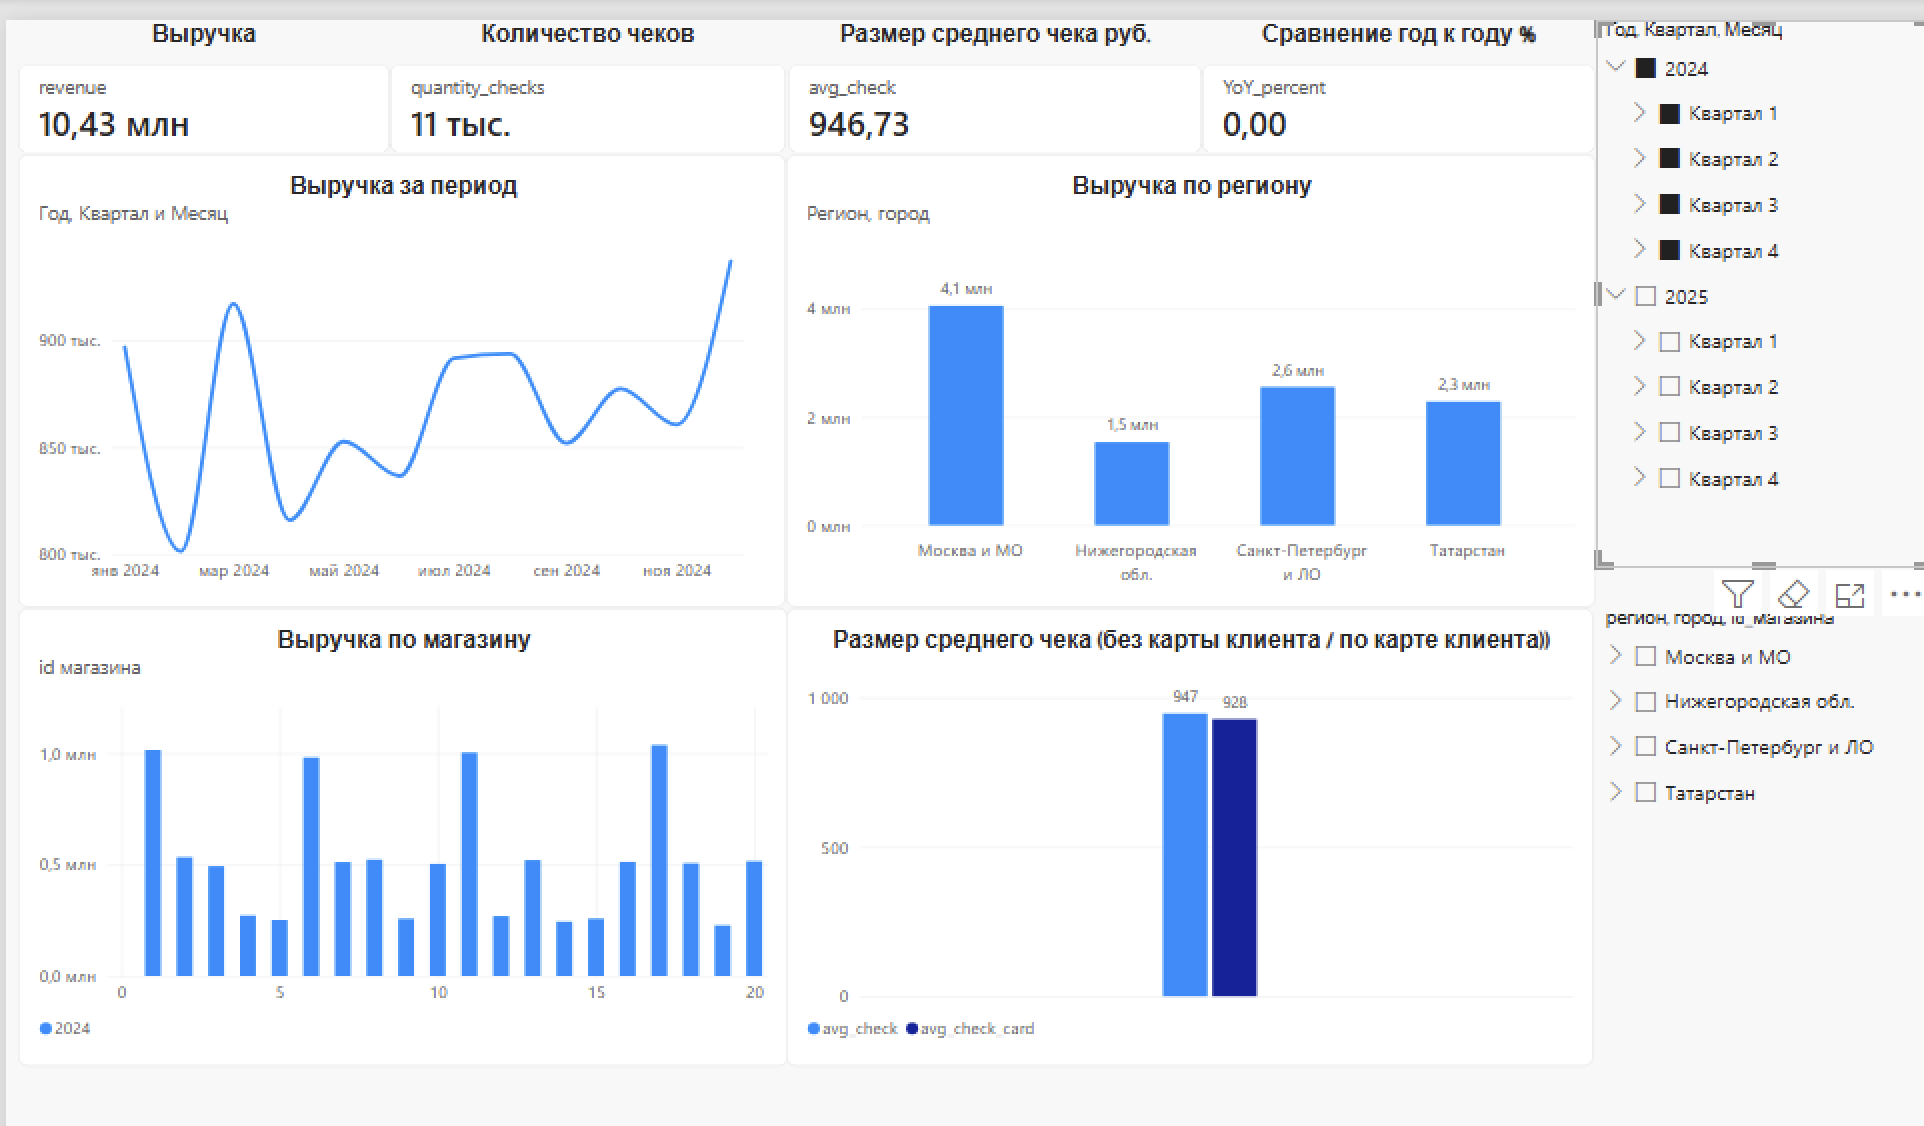

This screenshot's page, from the dashboard's own definition file:
{"tool":"powerbi","page":{"name":"Sales Sosedushka","canvas":[1920,1080],"ordinal":0},"visuals":[{"type":"cardVisual","title":"Выручка","fields":{"Data":["fact_sales.revenue"]},"box":[10,0,310,111.7],"z":0},{"type":"cardVisual","title":"Количество чеков","fields":{"Data":["fact_sales.quantity_checks"]},"box":[320,0,330,111.7],"z":1},{"type":"cardVisual","title":"Размер среднего чека руб.","fields":{"Data":["fact_sales.avg_check"]},"box":[651.7,0,345,111.7],"z":2},{"type":"cardVisual","title":"Сравнение год к году %","fields":{"Data":["fact_sales.YoY_percent"]},"box":[996.7,0,328.3,111.7],"z":3},{"type":"lineChart","title":"Выручка за период","fields":{"Category":["fact_sales.дата_время.Изменение.Иерархия дат.Год","fact_sales.дата_время.Изменение.Иерархия дат.Квартал","fact_sales.дата_время.Изменение.Иерархия дат.Месяц"],"Y":["fact_sales.revenue"]},"box":[10,111.7,640,378.3],"z":4},{"type":"clusteredColumnChart","title":"Выручка по магазину","fields":{"Category":["fact_sales.id_магазина"],"Series":["fact_sales.дата_время.Изменение.Иерархия дат.Год"],"Y":["fact_sales.revenue"]},"box":[10,490,641.7,381.7],"z":5},{"type":"clusteredColumnChart","title":"Размер среднего чека (без карты клиента / по карте клиента))","fields":{"Y":["fact_sales.avg_check","fact_sales.avg_check_card"]},"box":[650,490,673.3,381.7],"z":6},{"type":"clusteredColumnChart","title":"Выручка по региону","fields":{"Category":["dim_stores.регион","dim_stores.город"],"Y":["fact_sales.revenue"]},"box":[650,111.7,675,378.3],"z":7},{"type":"slicer","fields":{"Values":["dim_stores.регион","dim_stores.город","dim_stores.id_магазина"]},"box":[1325,490,280,381.7],"z":8},{"type":"slicer","fields":{"Values":["fact_sales.дата_время.Изменение.Иерархия дат.Год","fact_sales.дата_время.Изменение.Иерархия дат.Квартал","fact_sales.дата_время.Изменение.Иерархия дат.Месяц"]},"box":[1325,0,280,456.7],"z":9}]}

Visuals, with their boxes on the page's 1920x1080 design canvas (x1, y1, x2, y2). These are canvas units, not pixel positions in the 1924x1126 screenshot, which may show the page scaled, cropped or inside an application window:
"Выручка" cardVisual: [left=10, top=0, right=320, bottom=112]
"Количество чеков" cardVisual: [left=320, top=0, right=650, bottom=112]
"Размер среднего чека руб." cardVisual: [left=652, top=0, right=997, bottom=112]
"Сравнение год к году %" cardVisual: [left=997, top=0, right=1325, bottom=112]
"Выручка за период" lineChart: [left=10, top=112, right=650, bottom=490]
"Выручка по магазину" clusteredColumnChart: [left=10, top=490, right=652, bottom=872]
"Размер среднего чека (без карты клиента / по карте клиента))" clusteredColumnChart: [left=650, top=490, right=1323, bottom=872]
"Выручка по региону" clusteredColumnChart: [left=650, top=112, right=1325, bottom=490]
slicer - dim_stores.регион x dim_stores.город: [left=1325, top=490, right=1605, bottom=872]
slicer - fact_sales.дата_время.Изменение.Иерархия дат.Год x fact_sales.дата_время.Изменение.Иерархия дат.Квартал: [left=1325, top=0, right=1605, bottom=457]
